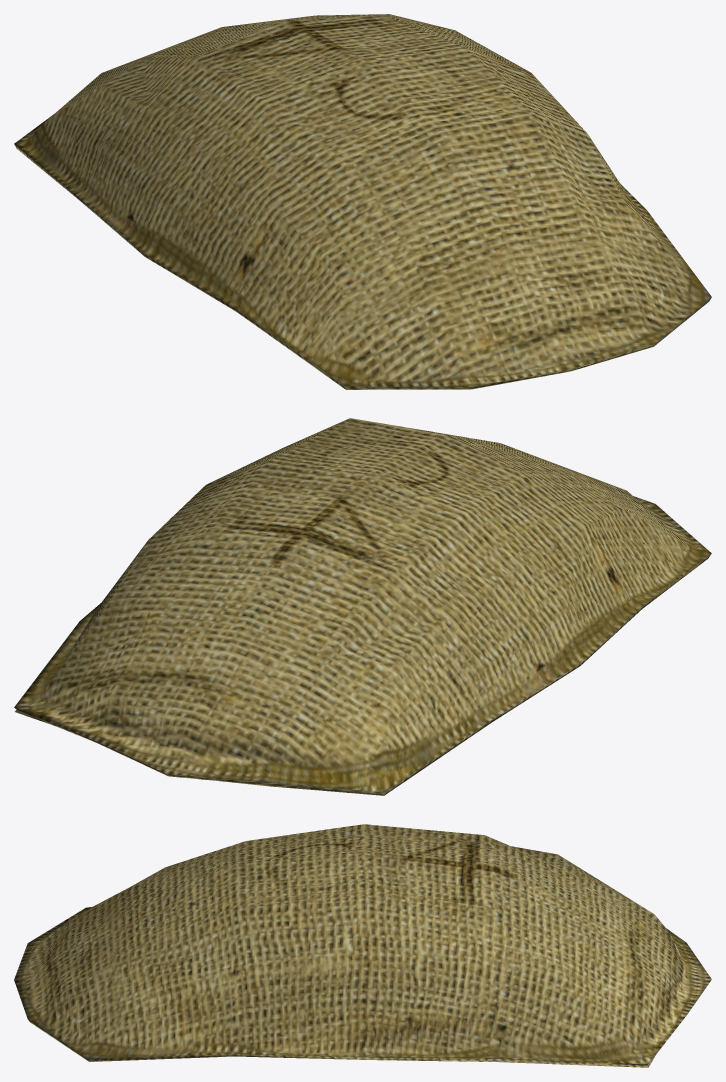
Rendered from sandbag01.FBX.
3 renders of one model, top to bottom at view 1: azimuth 30°, elevation 25°; view 2: azimuth 150°, elevation 25°; view 3: azimuth 270°, elevation 25°, orthographic. The views are drawn at different scales.
Visible parts, largest first — view 1: sandbag01; view 2: sandbag01; view 3: sandbag01.
Part boxes in pixels (x1,y1,x2,y2): sandbag01: [14, 14, 711, 389]; sandbag01: [14, 418, 711, 795]; sandbag01: [14, 824, 711, 1067].
Bounding box in the file's own units: 105 × 41 × 173.
1 material, 1 textured.
